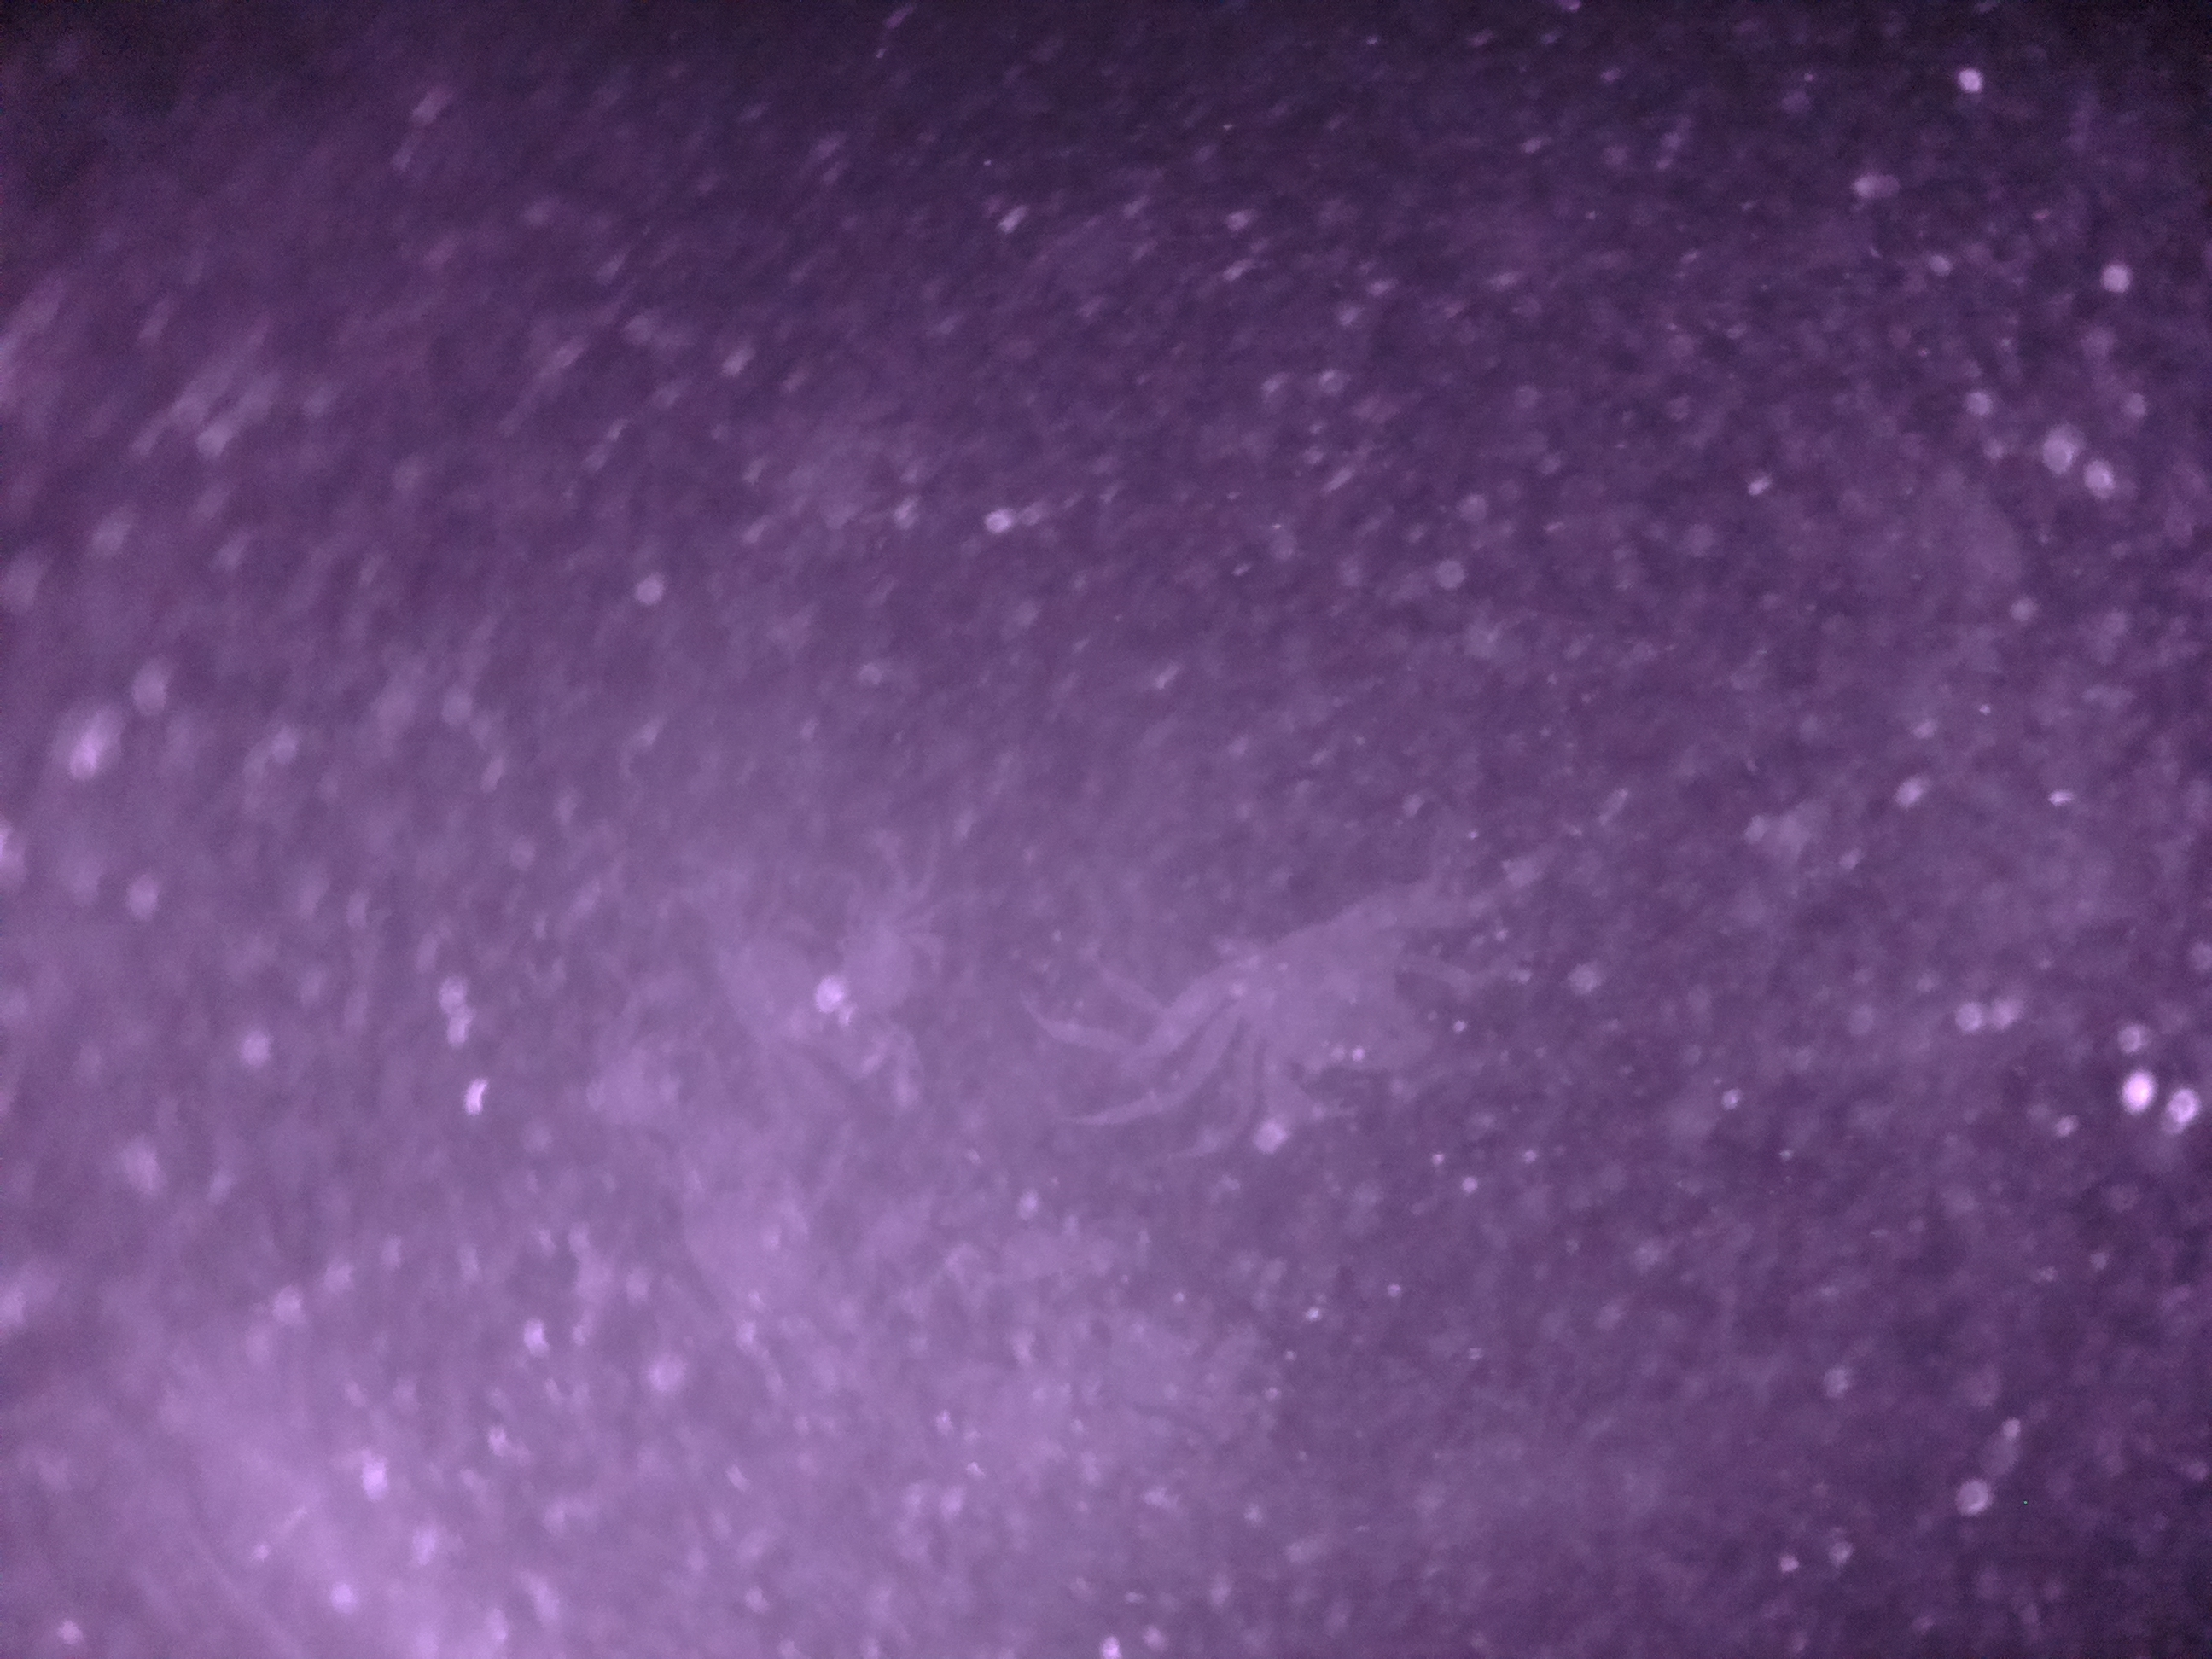Crab: (1143, 854, 1500, 1131)
